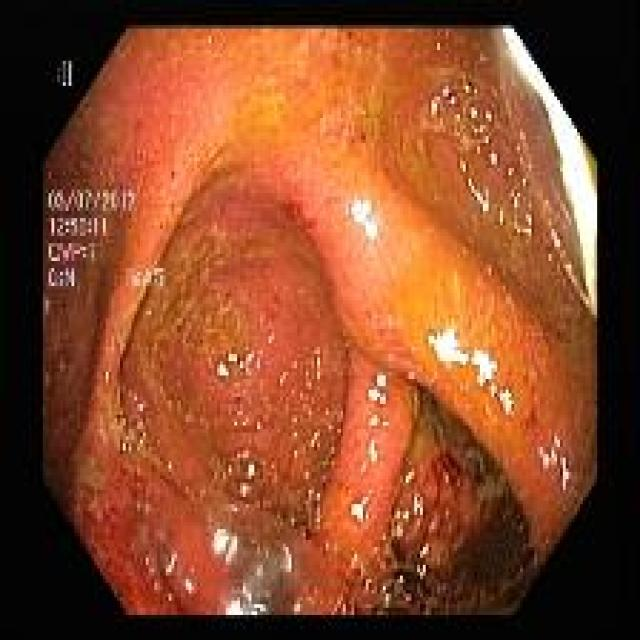ulcerative-colitis: (45, 28, 596, 614)
